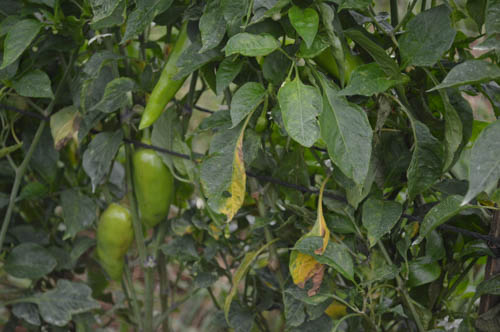ChiliPepper: (140, 31, 201, 132), (133, 147, 176, 232), (94, 203, 133, 285)
